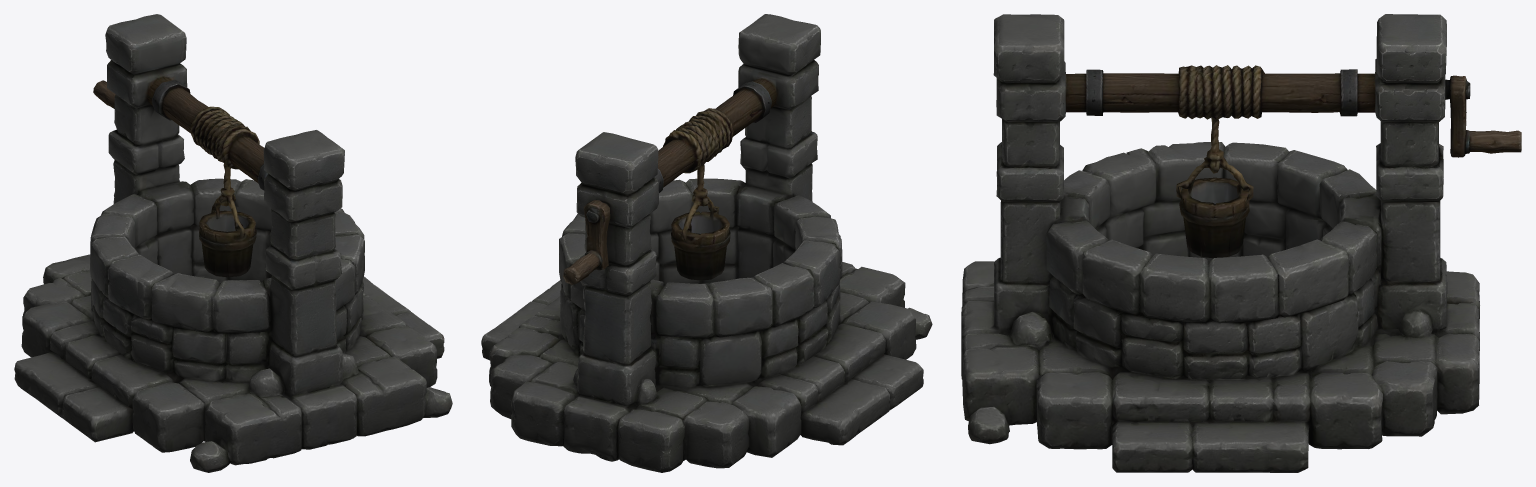
File: Well.fbx
The picture shows the model from 3 angles, left to right: view 1: azimuth 30°, elevation 25°; view 2: azimuth 150°, elevation 25°; view 3: azimuth 270°, elevation 25°; orthographic projection. The views are drawn at different scales.
Visible parts, largest first — view 1: tripo_node_446e32a0-496b-4ad7-892e-1a9398a8ea78; view 2: tripo_node_446e32a0-496b-4ad7-892e-1a9398a8ea78; view 3: tripo_node_446e32a0-496b-4ad7-892e-1a9398a8ea78.
Part boxes in pixels (bbox=[...]): tripo_node_446e32a0-496b-4ad7-892e-1a9398a8ea78: bbox=[14, 14, 452, 472]; tripo_node_446e32a0-496b-4ad7-892e-1a9398a8ea78: bbox=[481, 14, 932, 472]; tripo_node_446e32a0-496b-4ad7-892e-1a9398a8ea78: bbox=[961, 14, 1521, 472].
Size of the model in its own units: 258 by 198 by 293.
